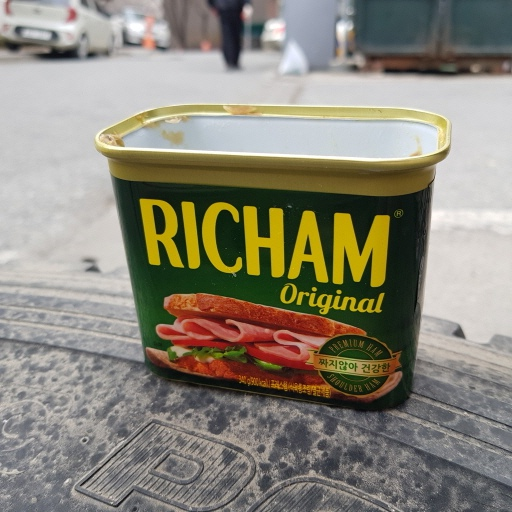Metal_2: (93, 100, 454, 412)
